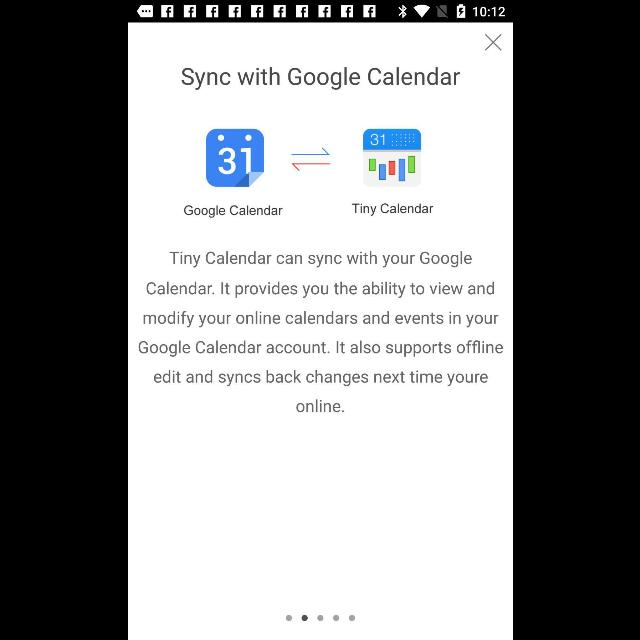icon: (290, 147, 330, 171), (484, 34, 501, 51)
image: (204, 128, 264, 188), (363, 129, 421, 187)
pageindicator: (285, 614, 355, 622)
text: (138, 251, 502, 413), (180, 67, 460, 91), (184, 206, 282, 218), (351, 204, 433, 216)
uppertaskbar: (128, 1, 512, 23)
